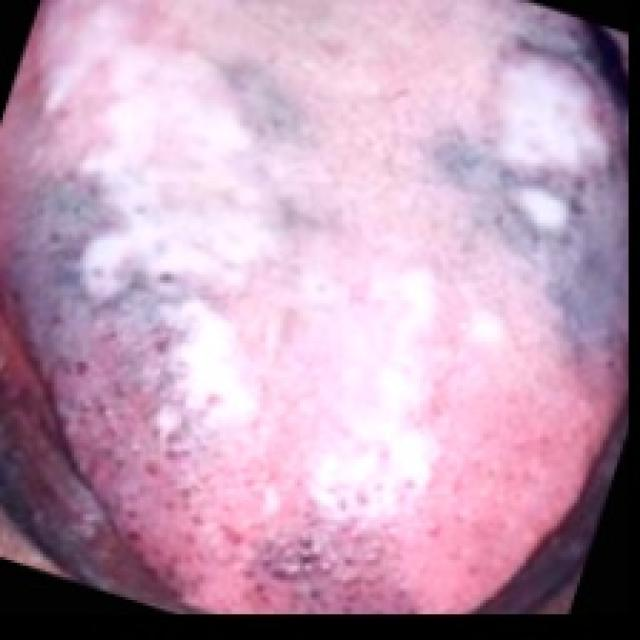leukoplakia-like-detection: (0, 0, 334, 526)
processing_area: (0, 0, 632, 617)
